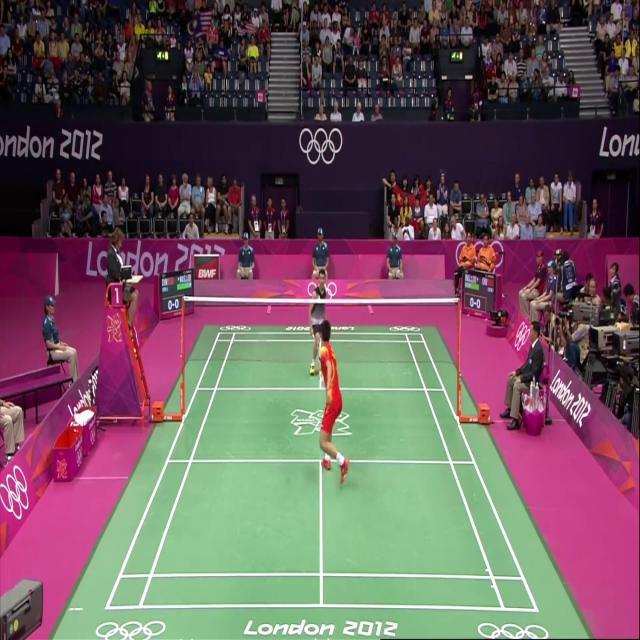Net: (180, 296, 460, 364)
Player1: (310, 312, 353, 497)
Player2: (305, 261, 334, 390)
